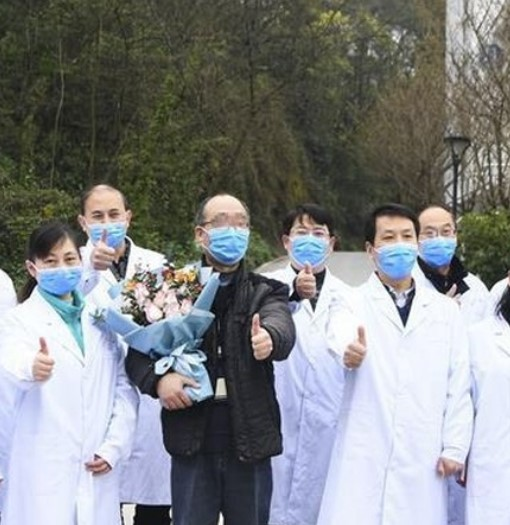face_with_mask: (363, 198, 420, 284), (191, 194, 254, 270), (26, 223, 83, 301), (281, 203, 340, 278), (76, 182, 135, 256), (418, 210, 463, 269)
